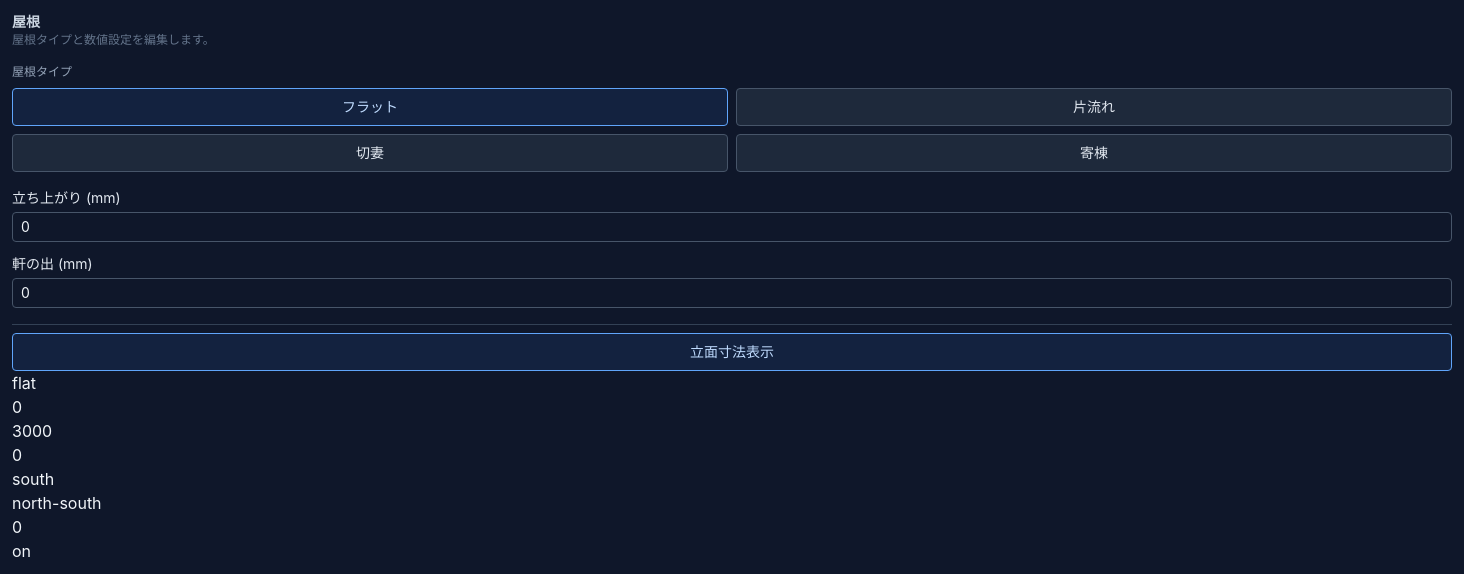
Test: RoofSidebarSection › applies eave offsets uniformly
Replace the text in the number field labelled "軒の出 (mm)" with "650" at (732, 293), box left=12, top=278, right=1452, bottom=308
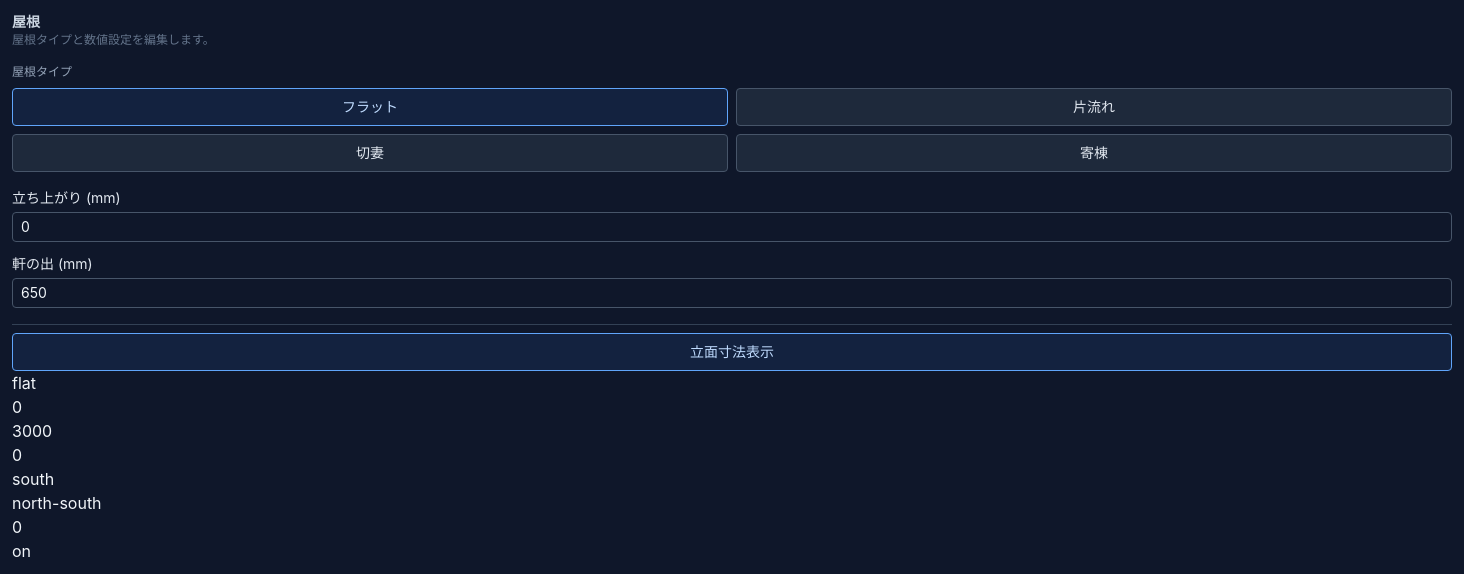
Leave the number field labelled "軒の出 (mm)", box left=12, top=278, right=1452, bottom=308
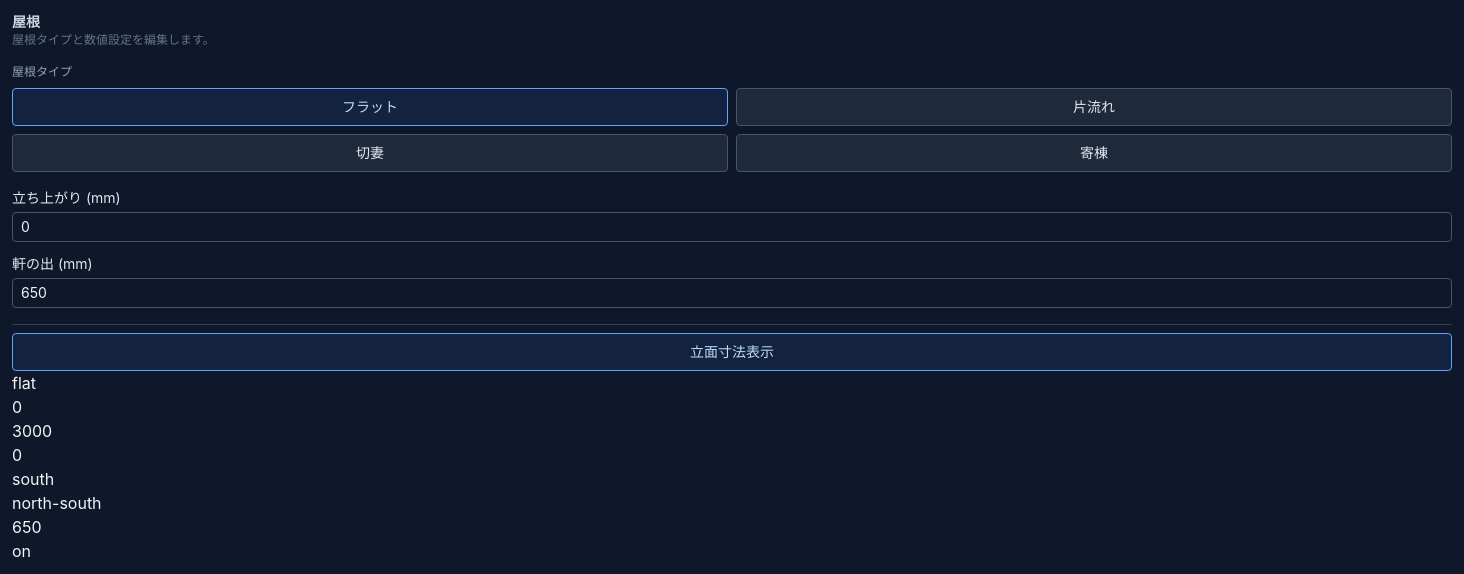
Now the text with test id "eave-offset" reads "650", box left=12, top=517, right=42, bottom=537
